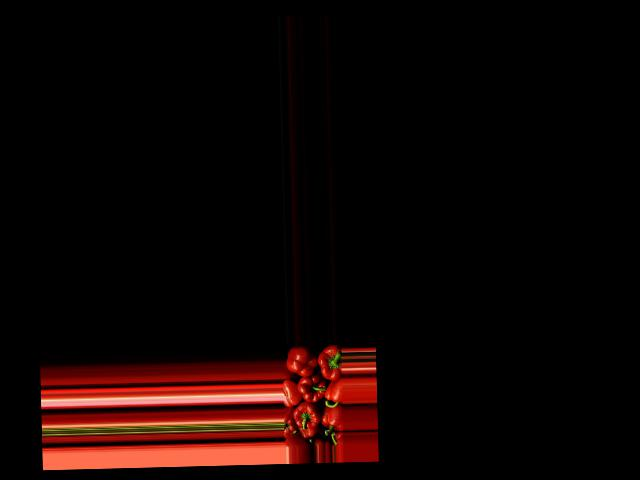bell_pepper: (283, 378, 299, 406)
